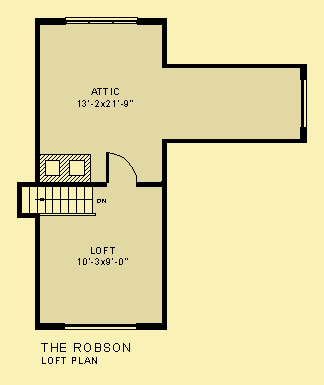door: (100, 149, 145, 191)
stairs: (18, 181, 108, 219)
windows: (64, 13, 141, 27), (64, 321, 140, 334), (297, 76, 311, 132)
